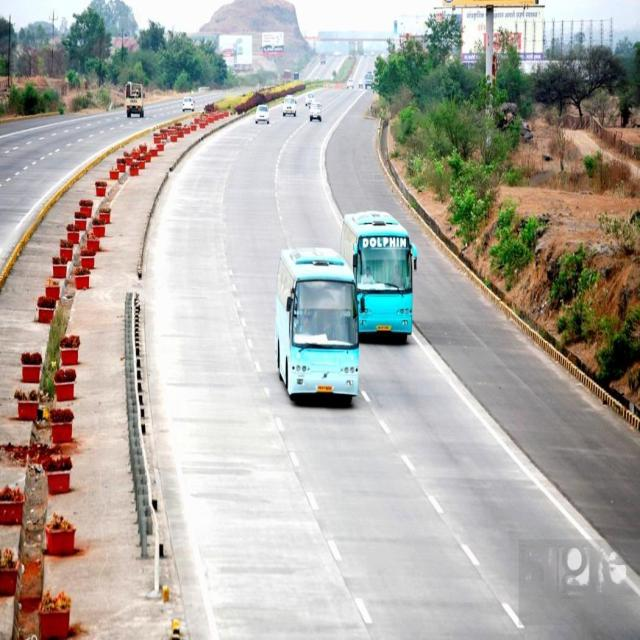bus: (275, 248, 359, 400), (340, 212, 416, 342)
